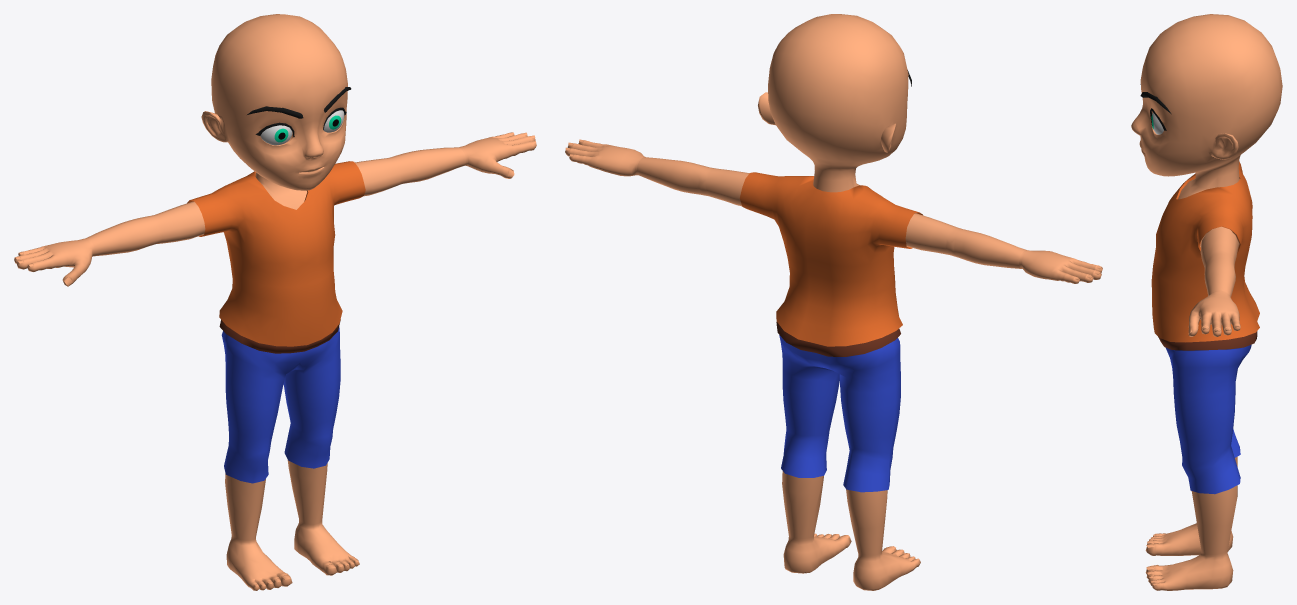
File: CharacterTestSubject.fbx
3 renders of one model, left to right at view 1: azimuth 30°, elevation 25°; view 2: azimuth 150°, elevation 25°; view 3: azimuth 270°, elevation 25°, orthographic. The views are drawn at different scales.
Visible parts, largest first — view 1: uploads_files_2017656_body_1; view 2: uploads_files_2017656_body_1; view 3: uploads_files_2017656_body_1.
Part boxes in pixels (x1,y1,x2,y2): uploads_files_2017656_body_1: (14,14,536,590); uploads_files_2017656_body_1: (565,14,1102,590); uploads_files_2017656_body_1: (1131,14,1282,590).
Size of the model in its own units: 25116 by 24918 by 6273.
